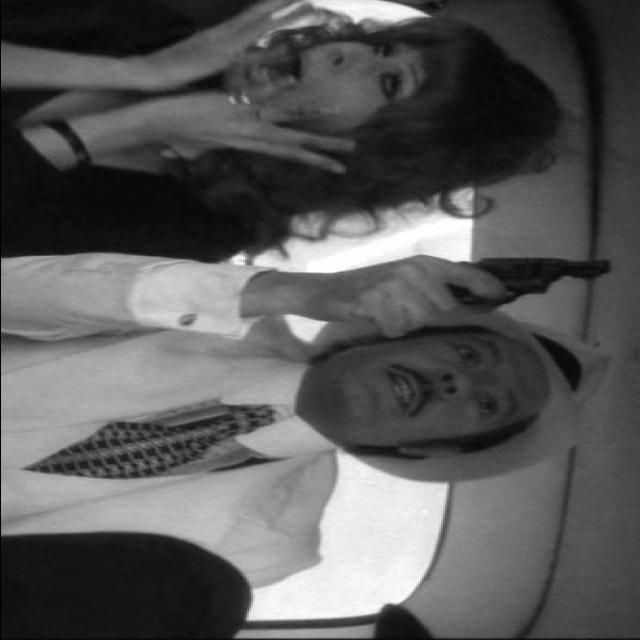weapons: (368, 242, 636, 324)
